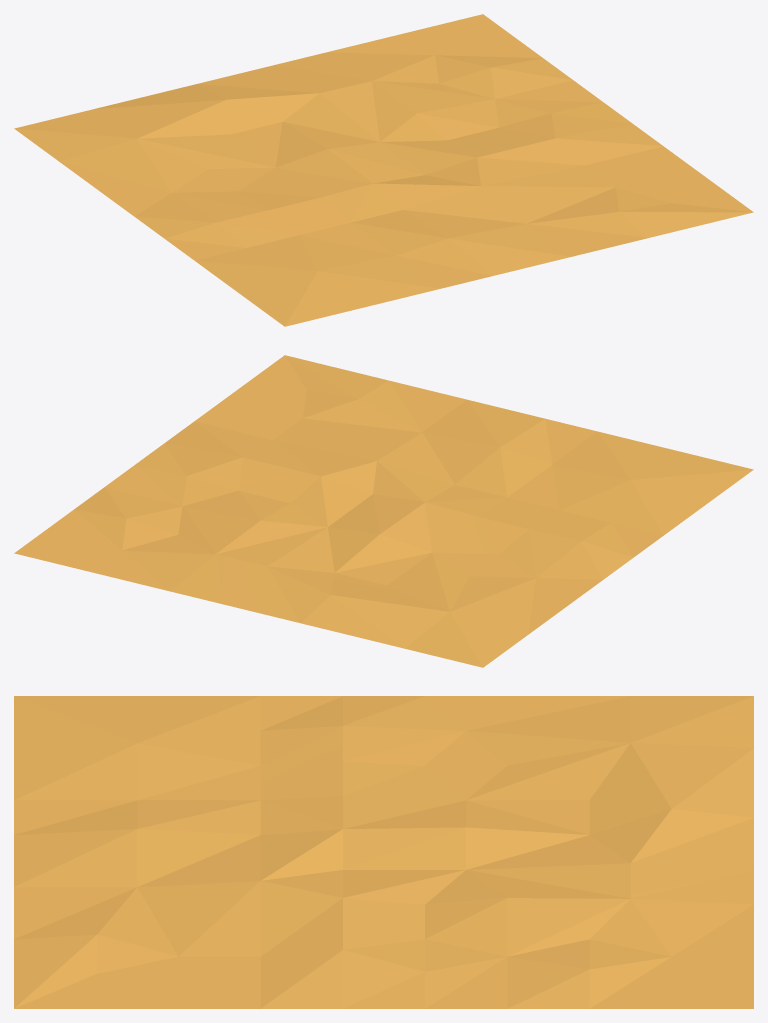
Rendered from Sand_01.fbx.
3 views of the same model, one above another, from view 1: azimuth 30°, elevation 25°; view 2: azimuth 150°, elevation 25°; view 3: azimuth 270°, elevation 25° (orthographic). The views are drawn at different scales.
Visible parts, largest first — view 1: Sand_01; view 2: Sand_01; view 3: Sand_01.
Boxes of the visible parts, x1,y1,x2,y2 form: Sand_01: [14, 14, 753, 326]; Sand_01: [14, 355, 753, 667]; Sand_01: [14, 696, 753, 1008].
Bounding box in the file's own units: 1200 × 15.6 × 1200.
